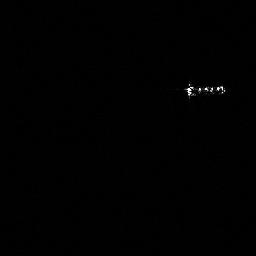ship: (182, 81, 228, 101)
